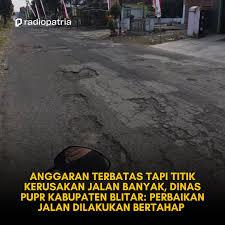Pothole: (126, 88, 225, 185), (49, 108, 144, 165), (110, 33, 197, 86), (0, 35, 82, 59), (46, 80, 104, 107), (56, 62, 102, 91)
